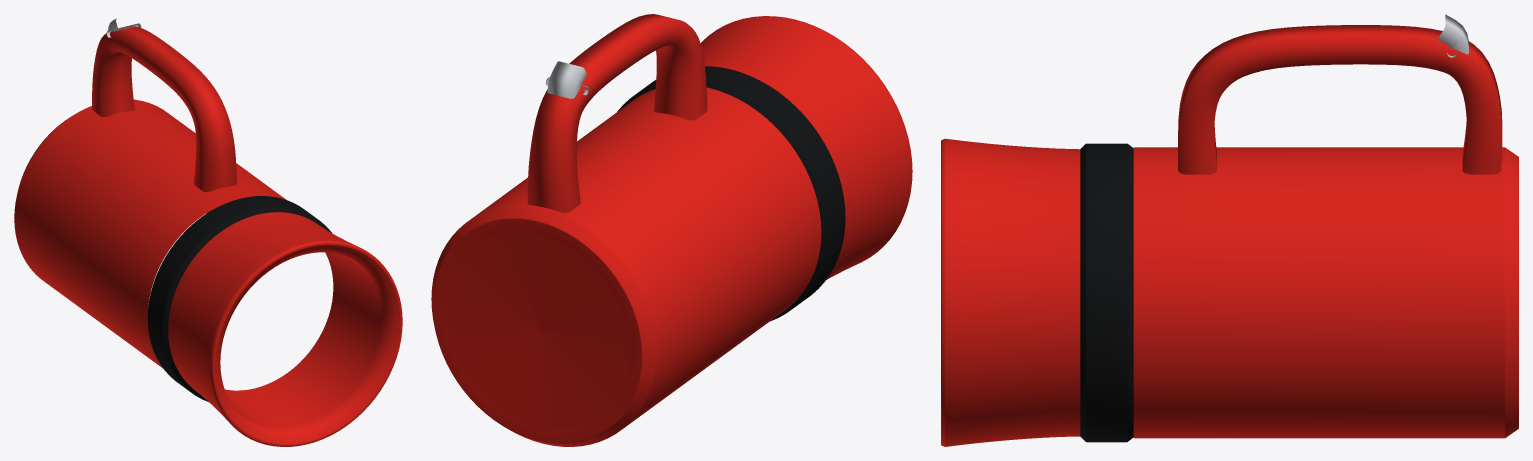
The picture shows the model from 3 angles, left to right: view 1: azimuth 30°, elevation 25°; view 2: azimuth 150°, elevation 25°; view 3: azimuth 270°, elevation 25°; orthographic projection. The views are drawn at different scales.
Visible parts, largest first — view 1: px5_body_0, px5_body_1, px5_body_2, px5_body_3; view 2: px5_body_0, px5_body_1, px5_body_2, px5_body_3, px5_body_4; view 3: px5_body_0, px5_body_1, px5_body_2, px5_body_3, px5_body_4.
Part boxes in pixels (box(x1,y1,x2,y2)): px5_body_0: box(14, 99, 286, 368); px5_body_1: box(168, 212, 402, 446); px5_body_2: box(92, 26, 236, 213); px5_body_3: box(147, 196, 332, 401); px5_body_0: box(431, 87, 821, 446); px5_body_1: box(700, 16, 912, 279); px5_body_2: box(527, 14, 707, 213); px5_body_3: box(617, 66, 845, 321); px5_body_4: box(545, 61, 588, 98); px5_body_0: box(1133, 147, 1518, 438); px5_body_1: box(941, 138, 1080, 446); px5_body_2: box(1178, 25, 1502, 174); px5_body_3: box(1080, 143, 1133, 442); px5_body_4: box(1437, 14, 1468, 57).
Size of the model in its own units: 0.16 by 0.2361 by 0.3.
